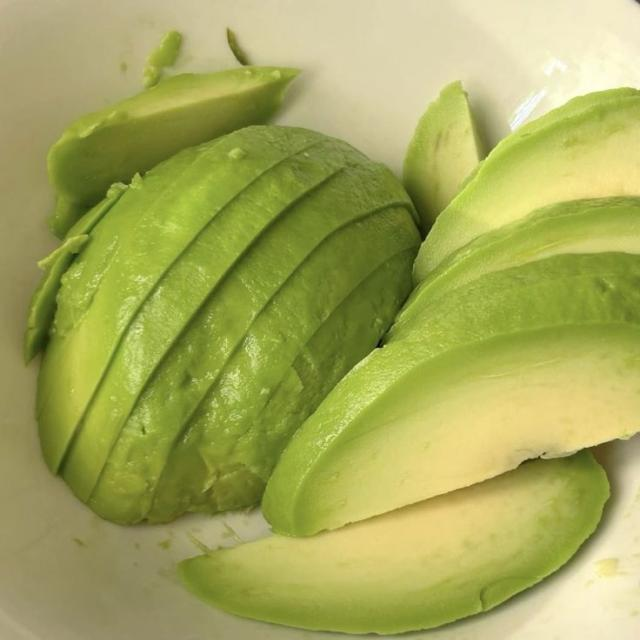avocado: (39, 127, 419, 521), (263, 254, 639, 535), (37, 128, 319, 472), (147, 208, 419, 521), (180, 452, 608, 633), (47, 67, 298, 237), (420, 95, 639, 272), (386, 197, 639, 341), (24, 184, 126, 362), (403, 82, 486, 234), (495, 87, 639, 153), (143, 31, 181, 88)
